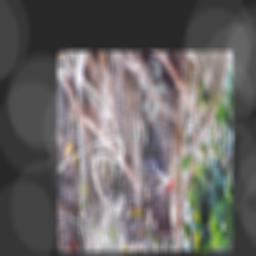Woodpecker: (141, 101, 178, 194)
